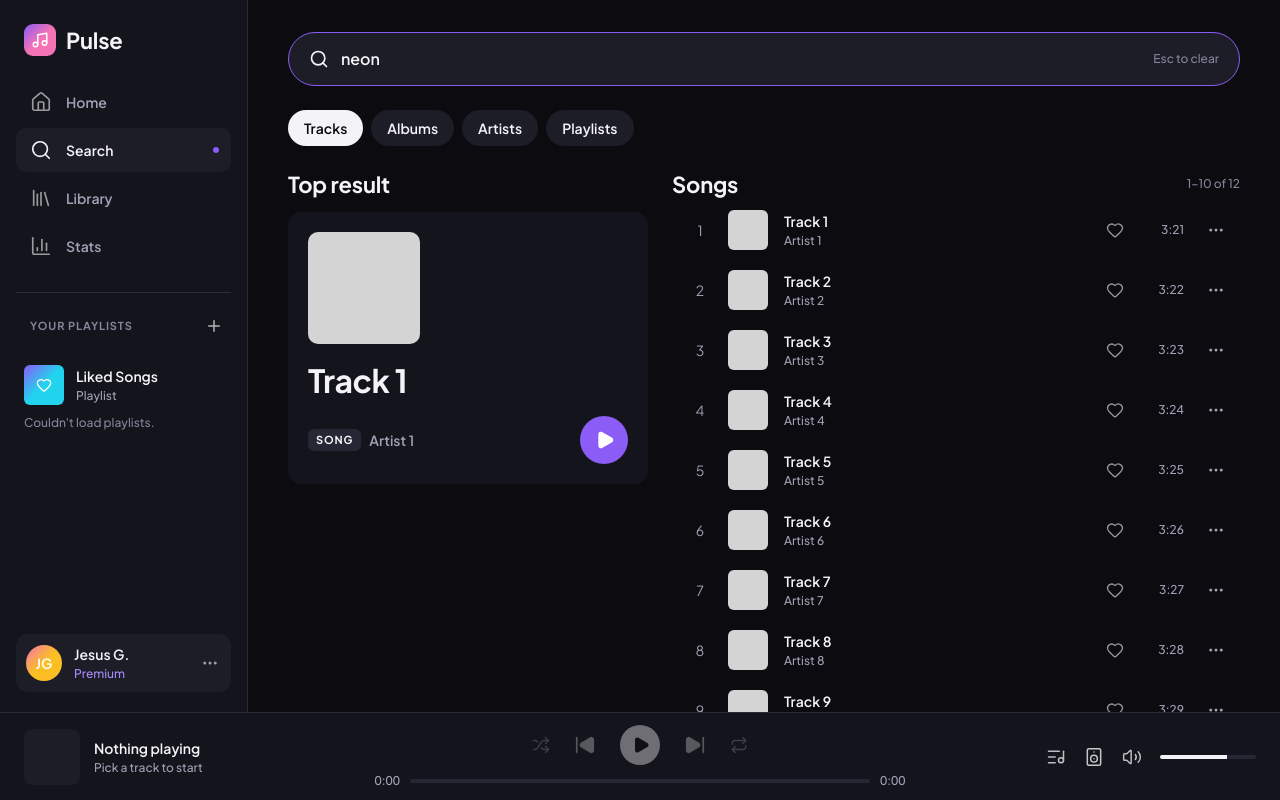
Test: SearchPage › adds a track to the queue from the row menu
Click the button named "More options for Track 2": [1216, 290] box [1200,274,1232,306]
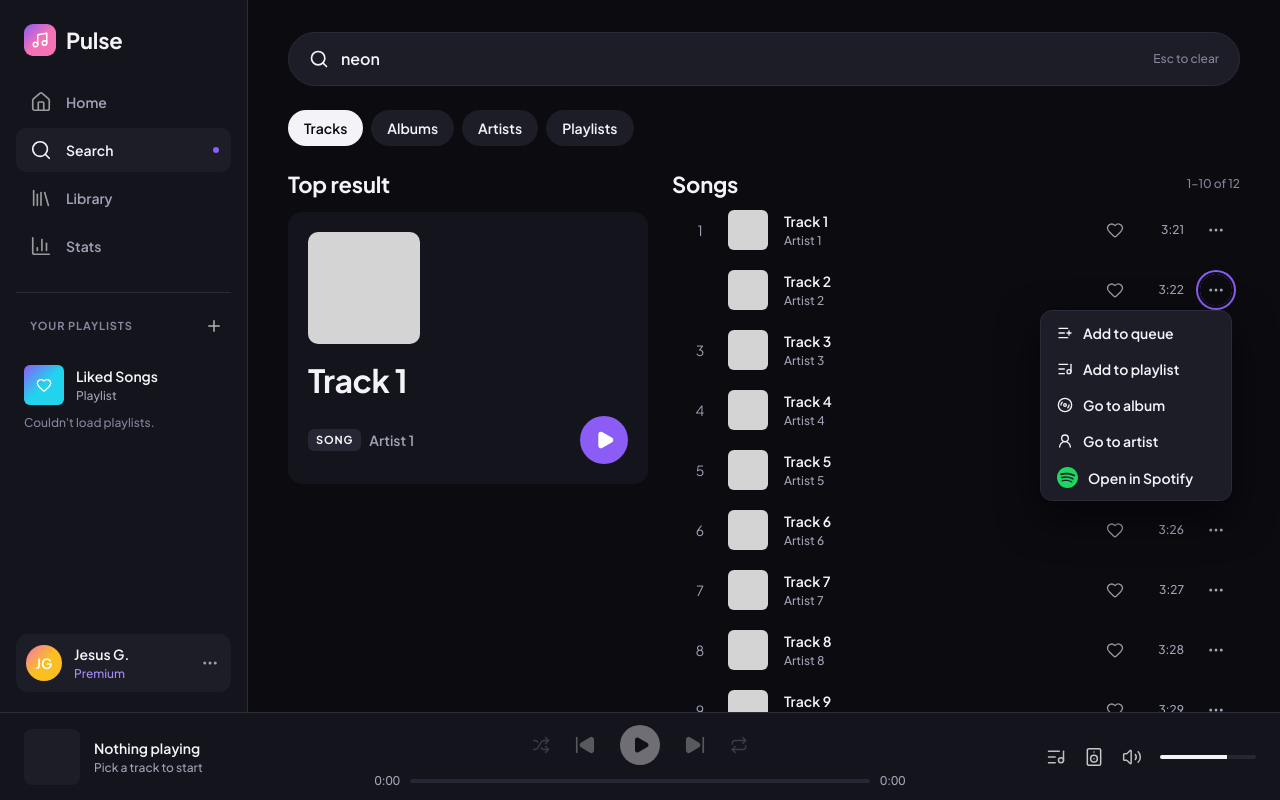
Click the menu item "Add to queue": [1136, 333] box [1045,315,1227,351]
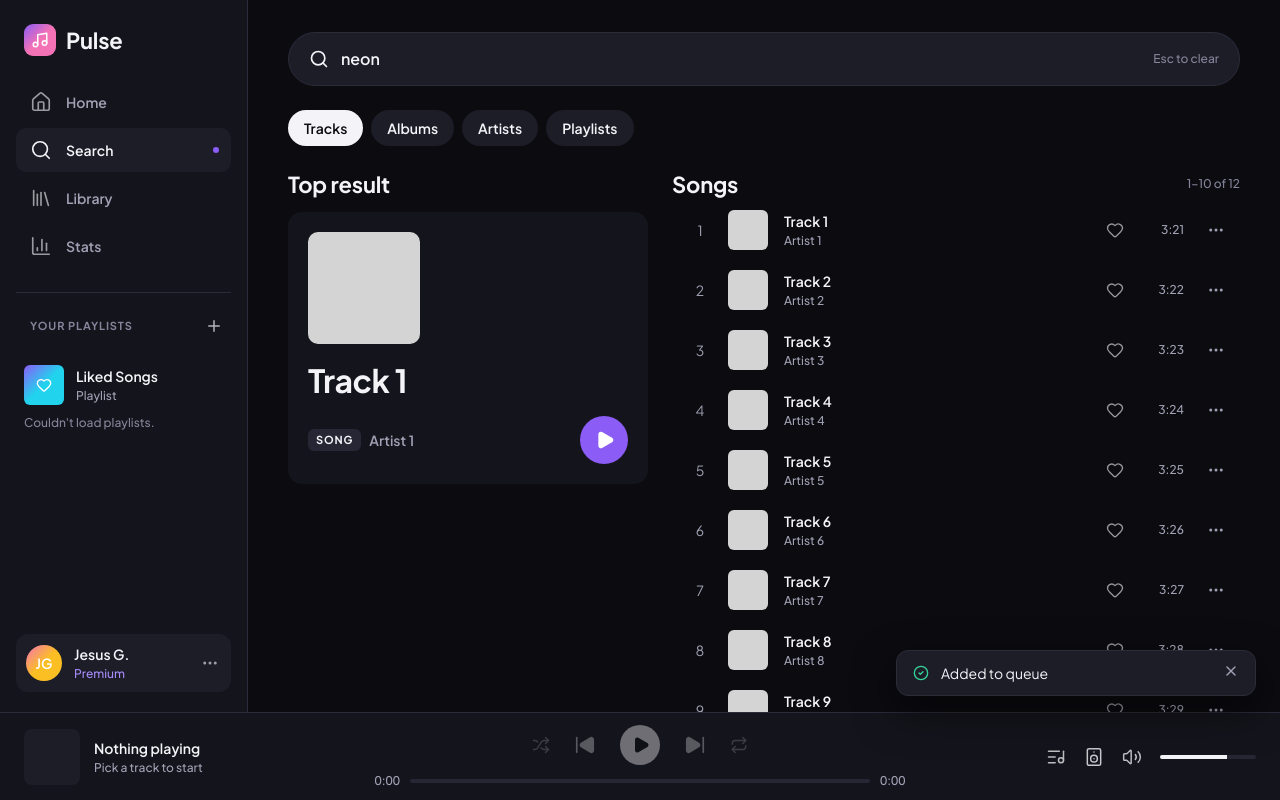
Now the text "Added to queue" is shown, box [941,664,1048,682]
